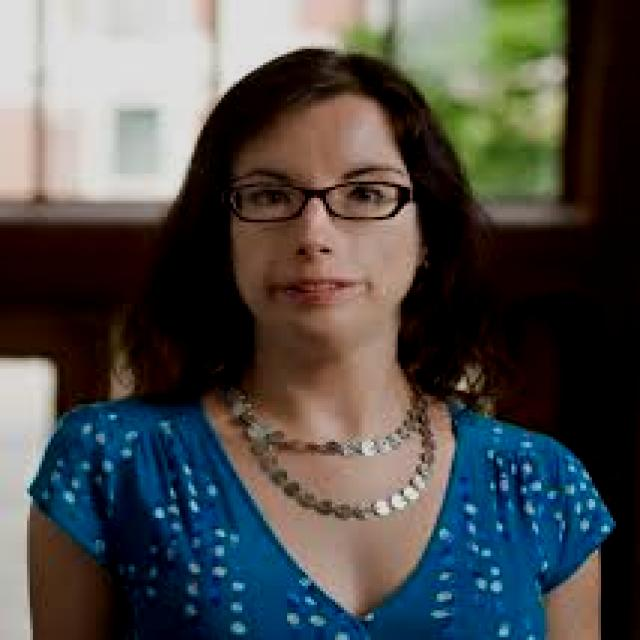stroke_face: (201, 95, 470, 362)
